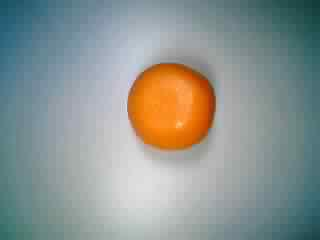orange: (122, 61, 220, 160)
